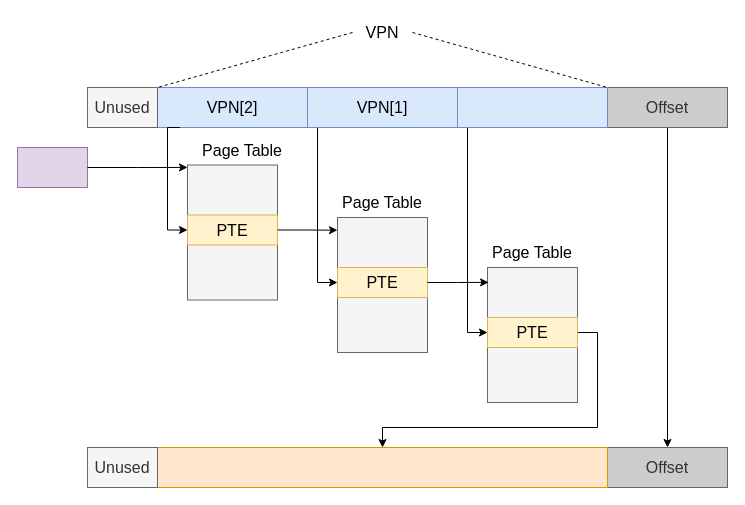
Image size: 745x505. Some labels were removed from this diagram. Each missing label, with the centre of its shape:
"PPN" belongs at (x=382, y=467).
"SATP" belongs at (x=52, y=167).
"VPN[0]" belongs at (x=532, y=107).
